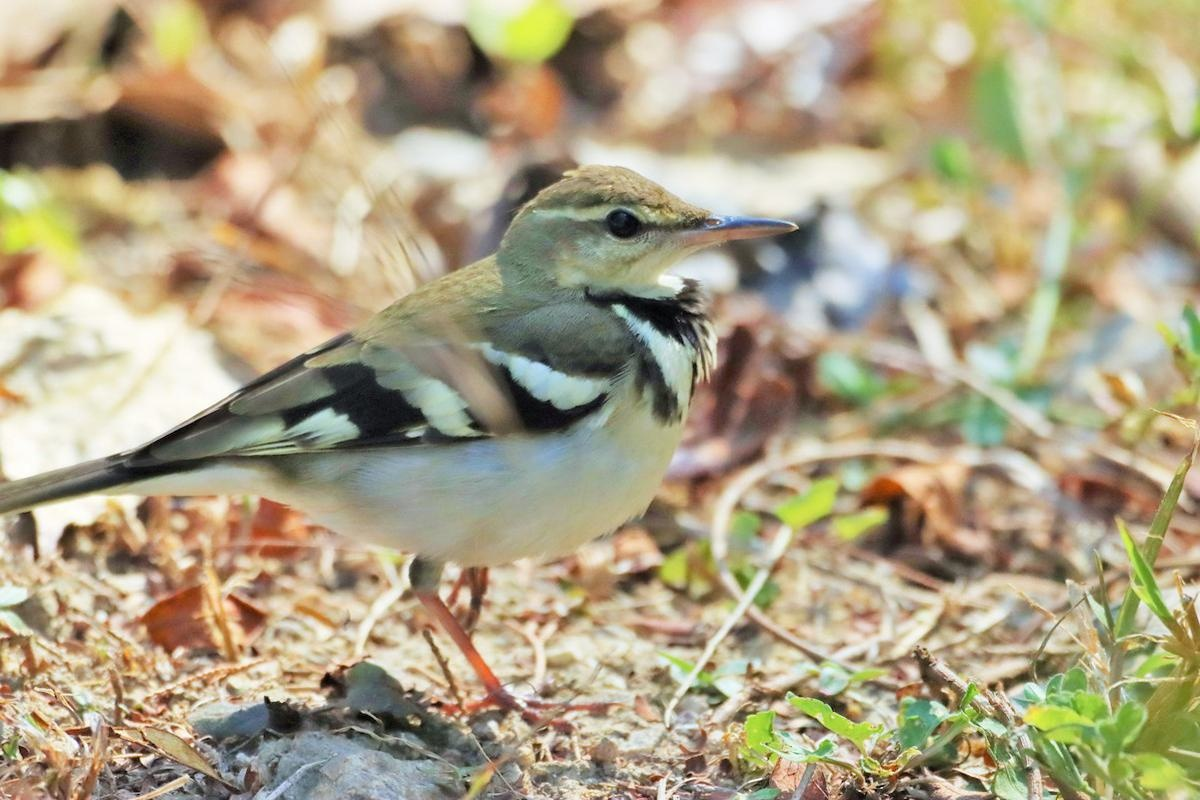wagtail: (68, 150, 745, 628)
